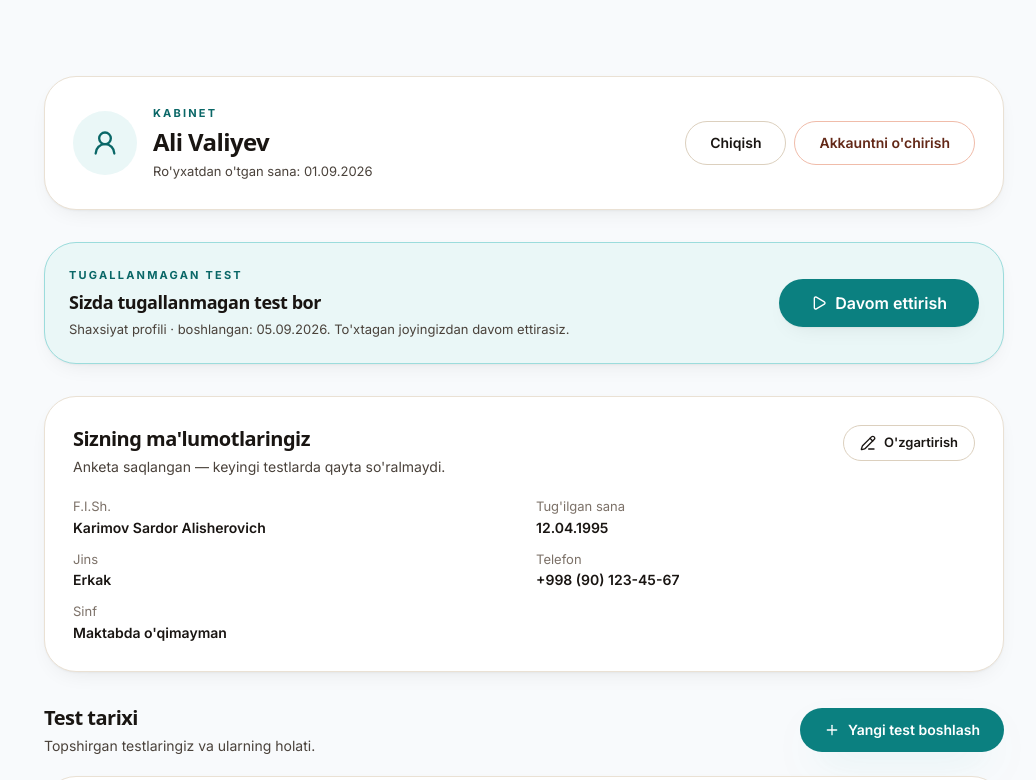
Scenario: AccountPage › tugallanmagan sessiya › "Davom ettirish" → `POST /api/me/sessions` `{}`, token `sessionStore` ga, birinchi tugallanmagan blokga
The image size is (1036, 780).
Click the button "Davom ettirish".
click(879, 303)  # box [779,279,979,327]
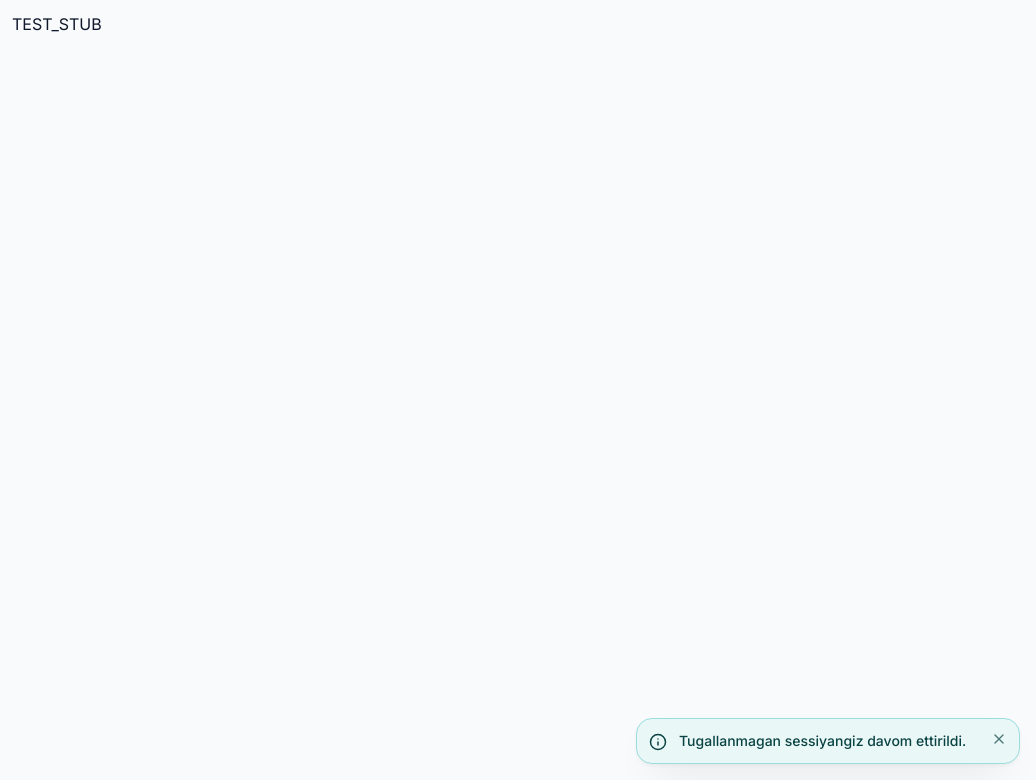
Result: the text "TEST_STUB" is shown at [12,14,102,34]
Result: the text "Tugallanmagan sessiyangiz davom ettirildi." is shown at [679,731,979,751]
